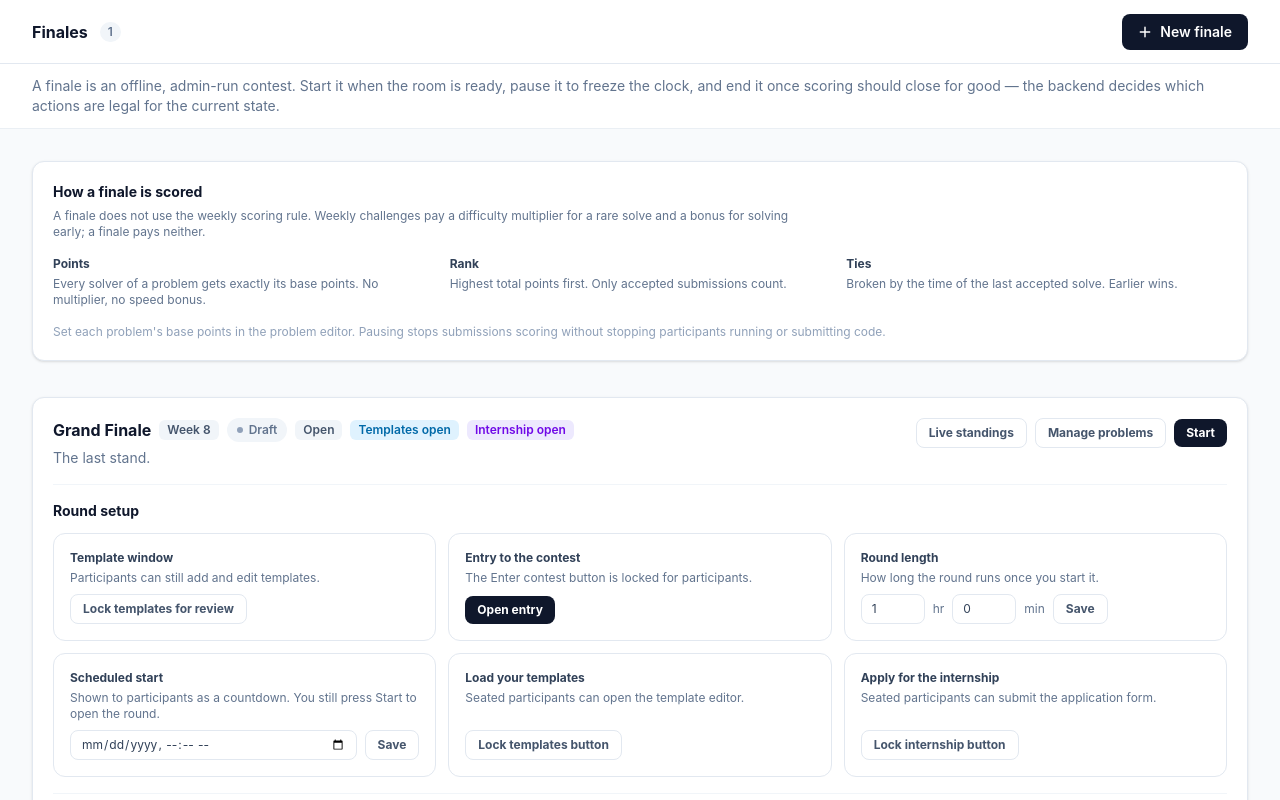
Test case: finale template window › locks the template library and reflects it back on the card
This screenshot has width=1280, height=800.
What coordinates should you click on to do the following:
click the button "Lock templates for review"
I would click on:
 (158, 609)
Its box is [70,594,247,624].
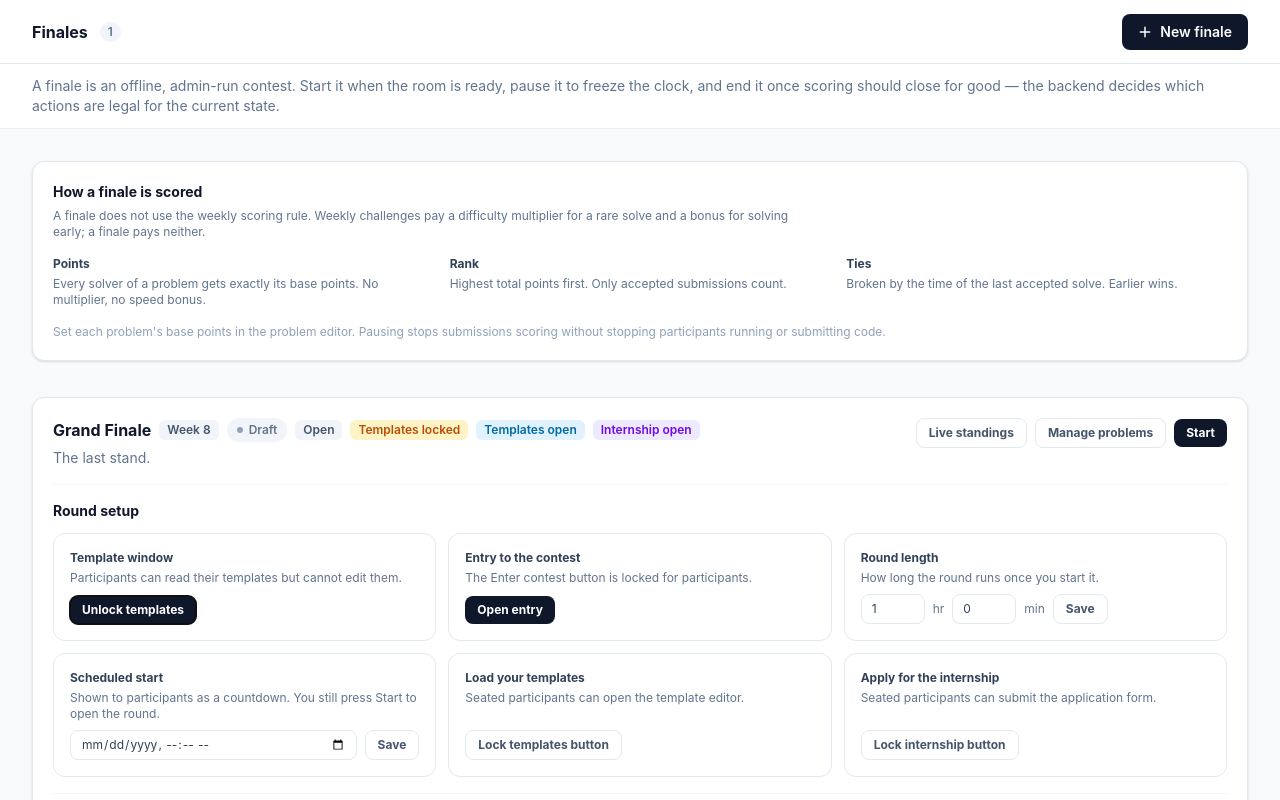
Result: the text "Templates locked" is shown at [350,420,468,440]
Result: the button "Unlock templates" is shown at [70,596,196,624]
